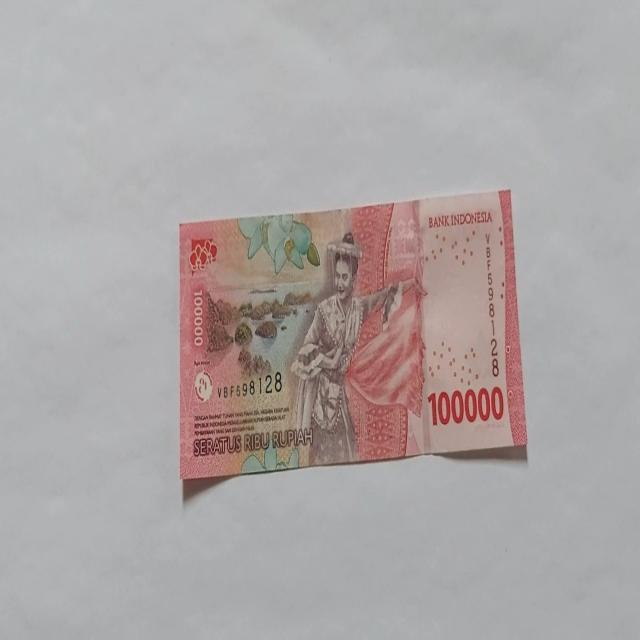seratus ribu rupiah: (178, 188, 528, 482), (288, 230, 402, 465)
